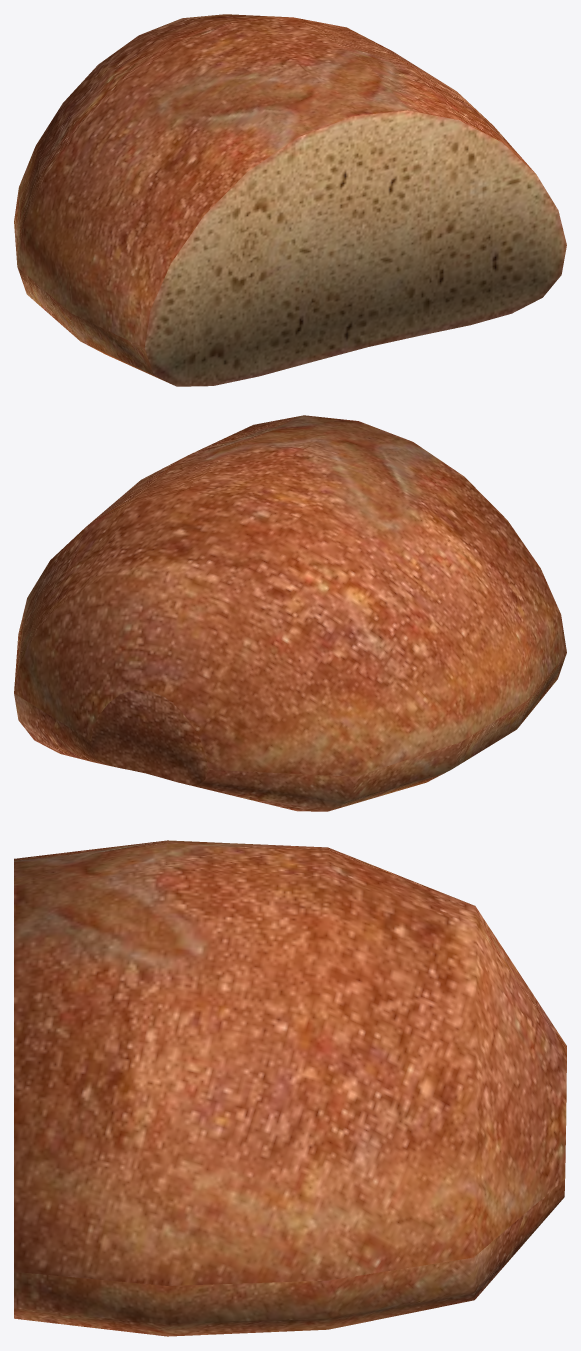
Rendered from Food_Bread_Half.glb.
3 renders of one model, top to bottom at view 1: azimuth 30°, elevation 25°; view 2: azimuth 150°, elevation 25°; view 3: azimuth 270°, elevation 25°, orthographic. The views are drawn at different scales.
Visible parts, largest first — view 1: Food_Bread_Half; view 2: Food_Bread_Half; view 3: Food_Bread_Half.
Part boxes in pixels (x1,y1,x2,y2): Food_Bread_Half: (14,14,566,386); Food_Bread_Half: (14,415,566,811); Food_Bread_Half: (14,840,566,1336).
Bounding box in the file's own units: 0.2821 × 0.1516 × 0.2206.
Materials: 1 (1 with a texture image).
